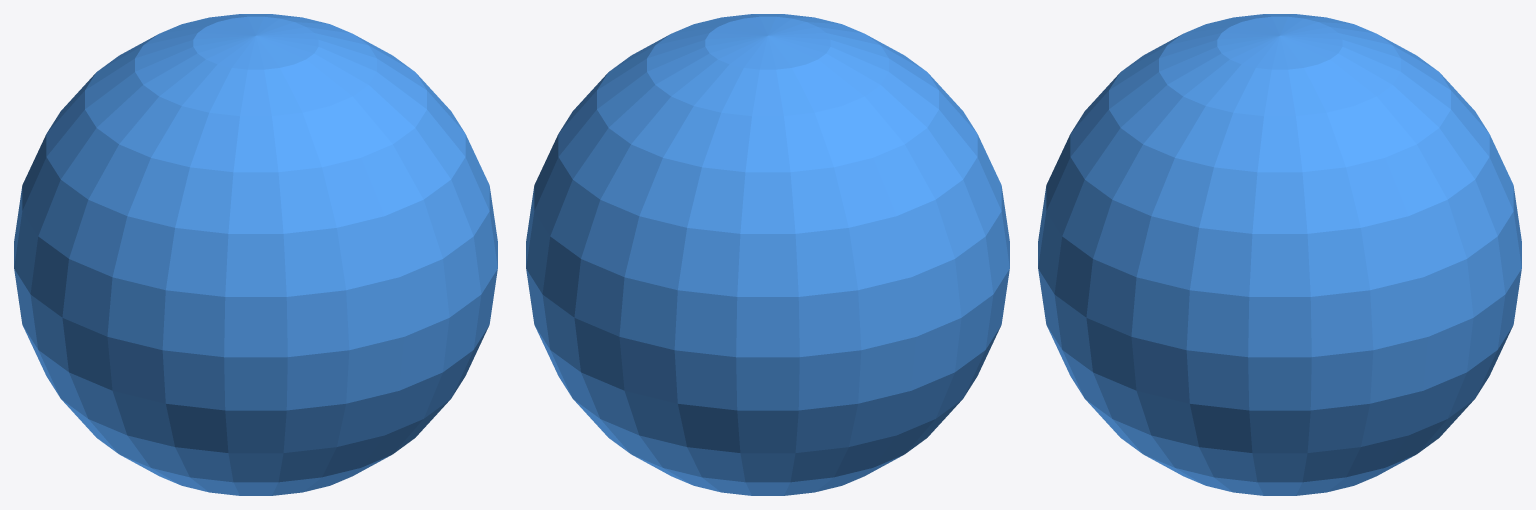
File: default_bubble.gltf
3 views of the same model, side by side, from view 1: azimuth 30°, elevation 25°; view 2: azimuth 150°, elevation 25°; view 3: azimuth 270°, elevation 25° (orthographic).
Visible parts, largest first — view 1: sphere; view 2: sphere; view 3: sphere.
Boxes of the visible parts, <box> form: sphere: <box>14,14,497,495</box>; sphere: <box>526,14,1009,495</box>; sphere: <box>1038,14,1521,495</box>.
Bounding box in the file's own units: 3 × 3 × 3.
Materials: 1 (1 with a texture image).
